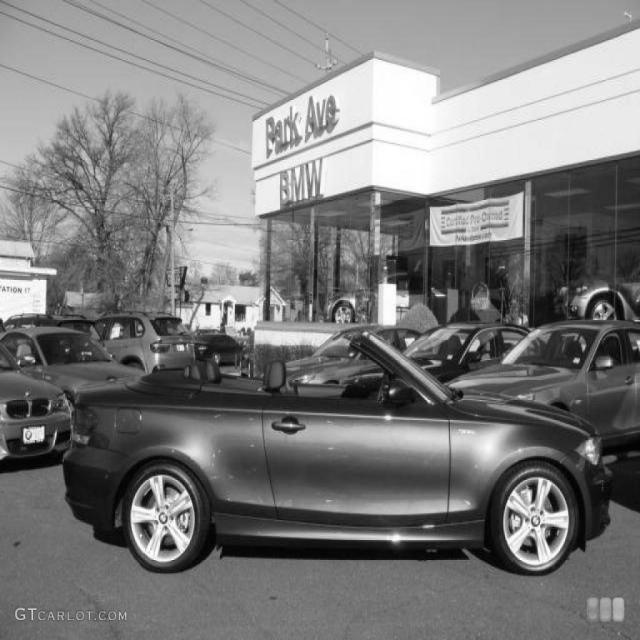car: (62, 328, 613, 577)
